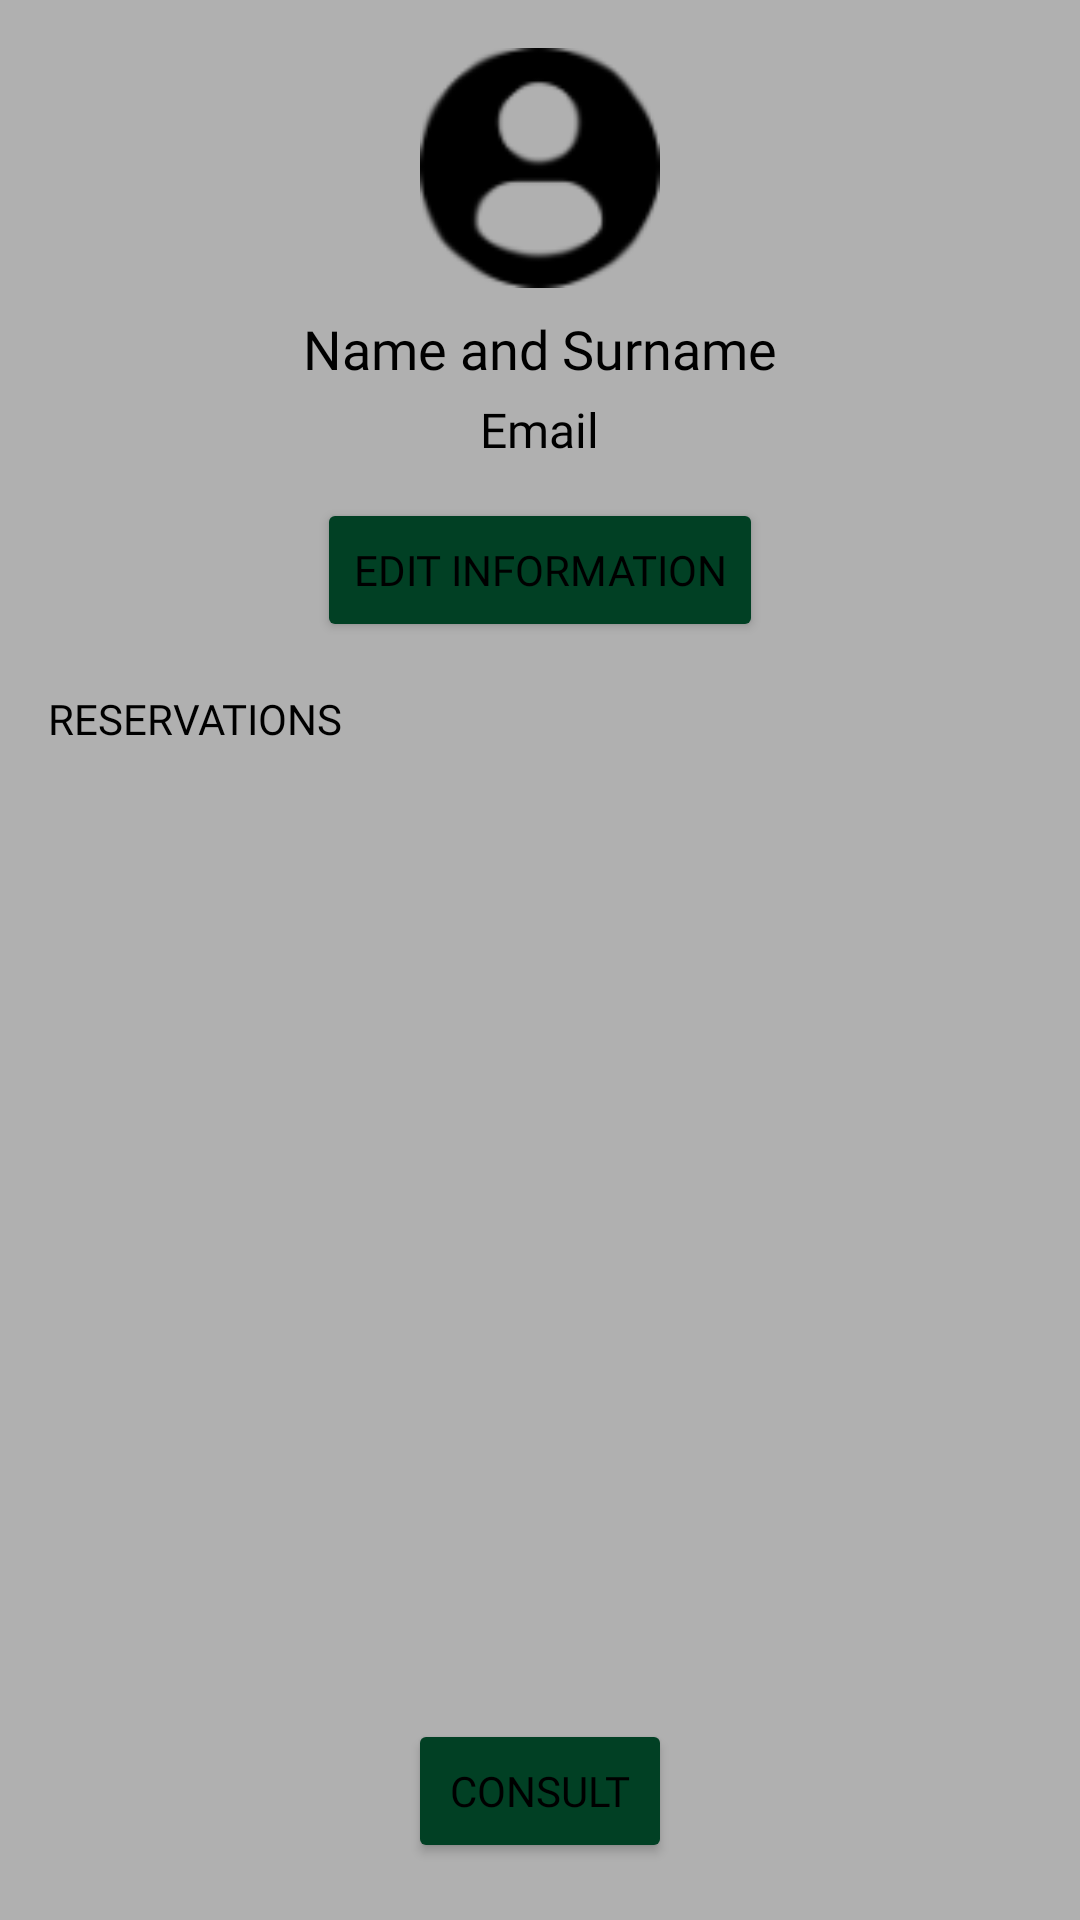

Screen size 1080px×1920px. Icon name, then its center in pixels as point (x, y):
Profile Image: point (540, 168)
